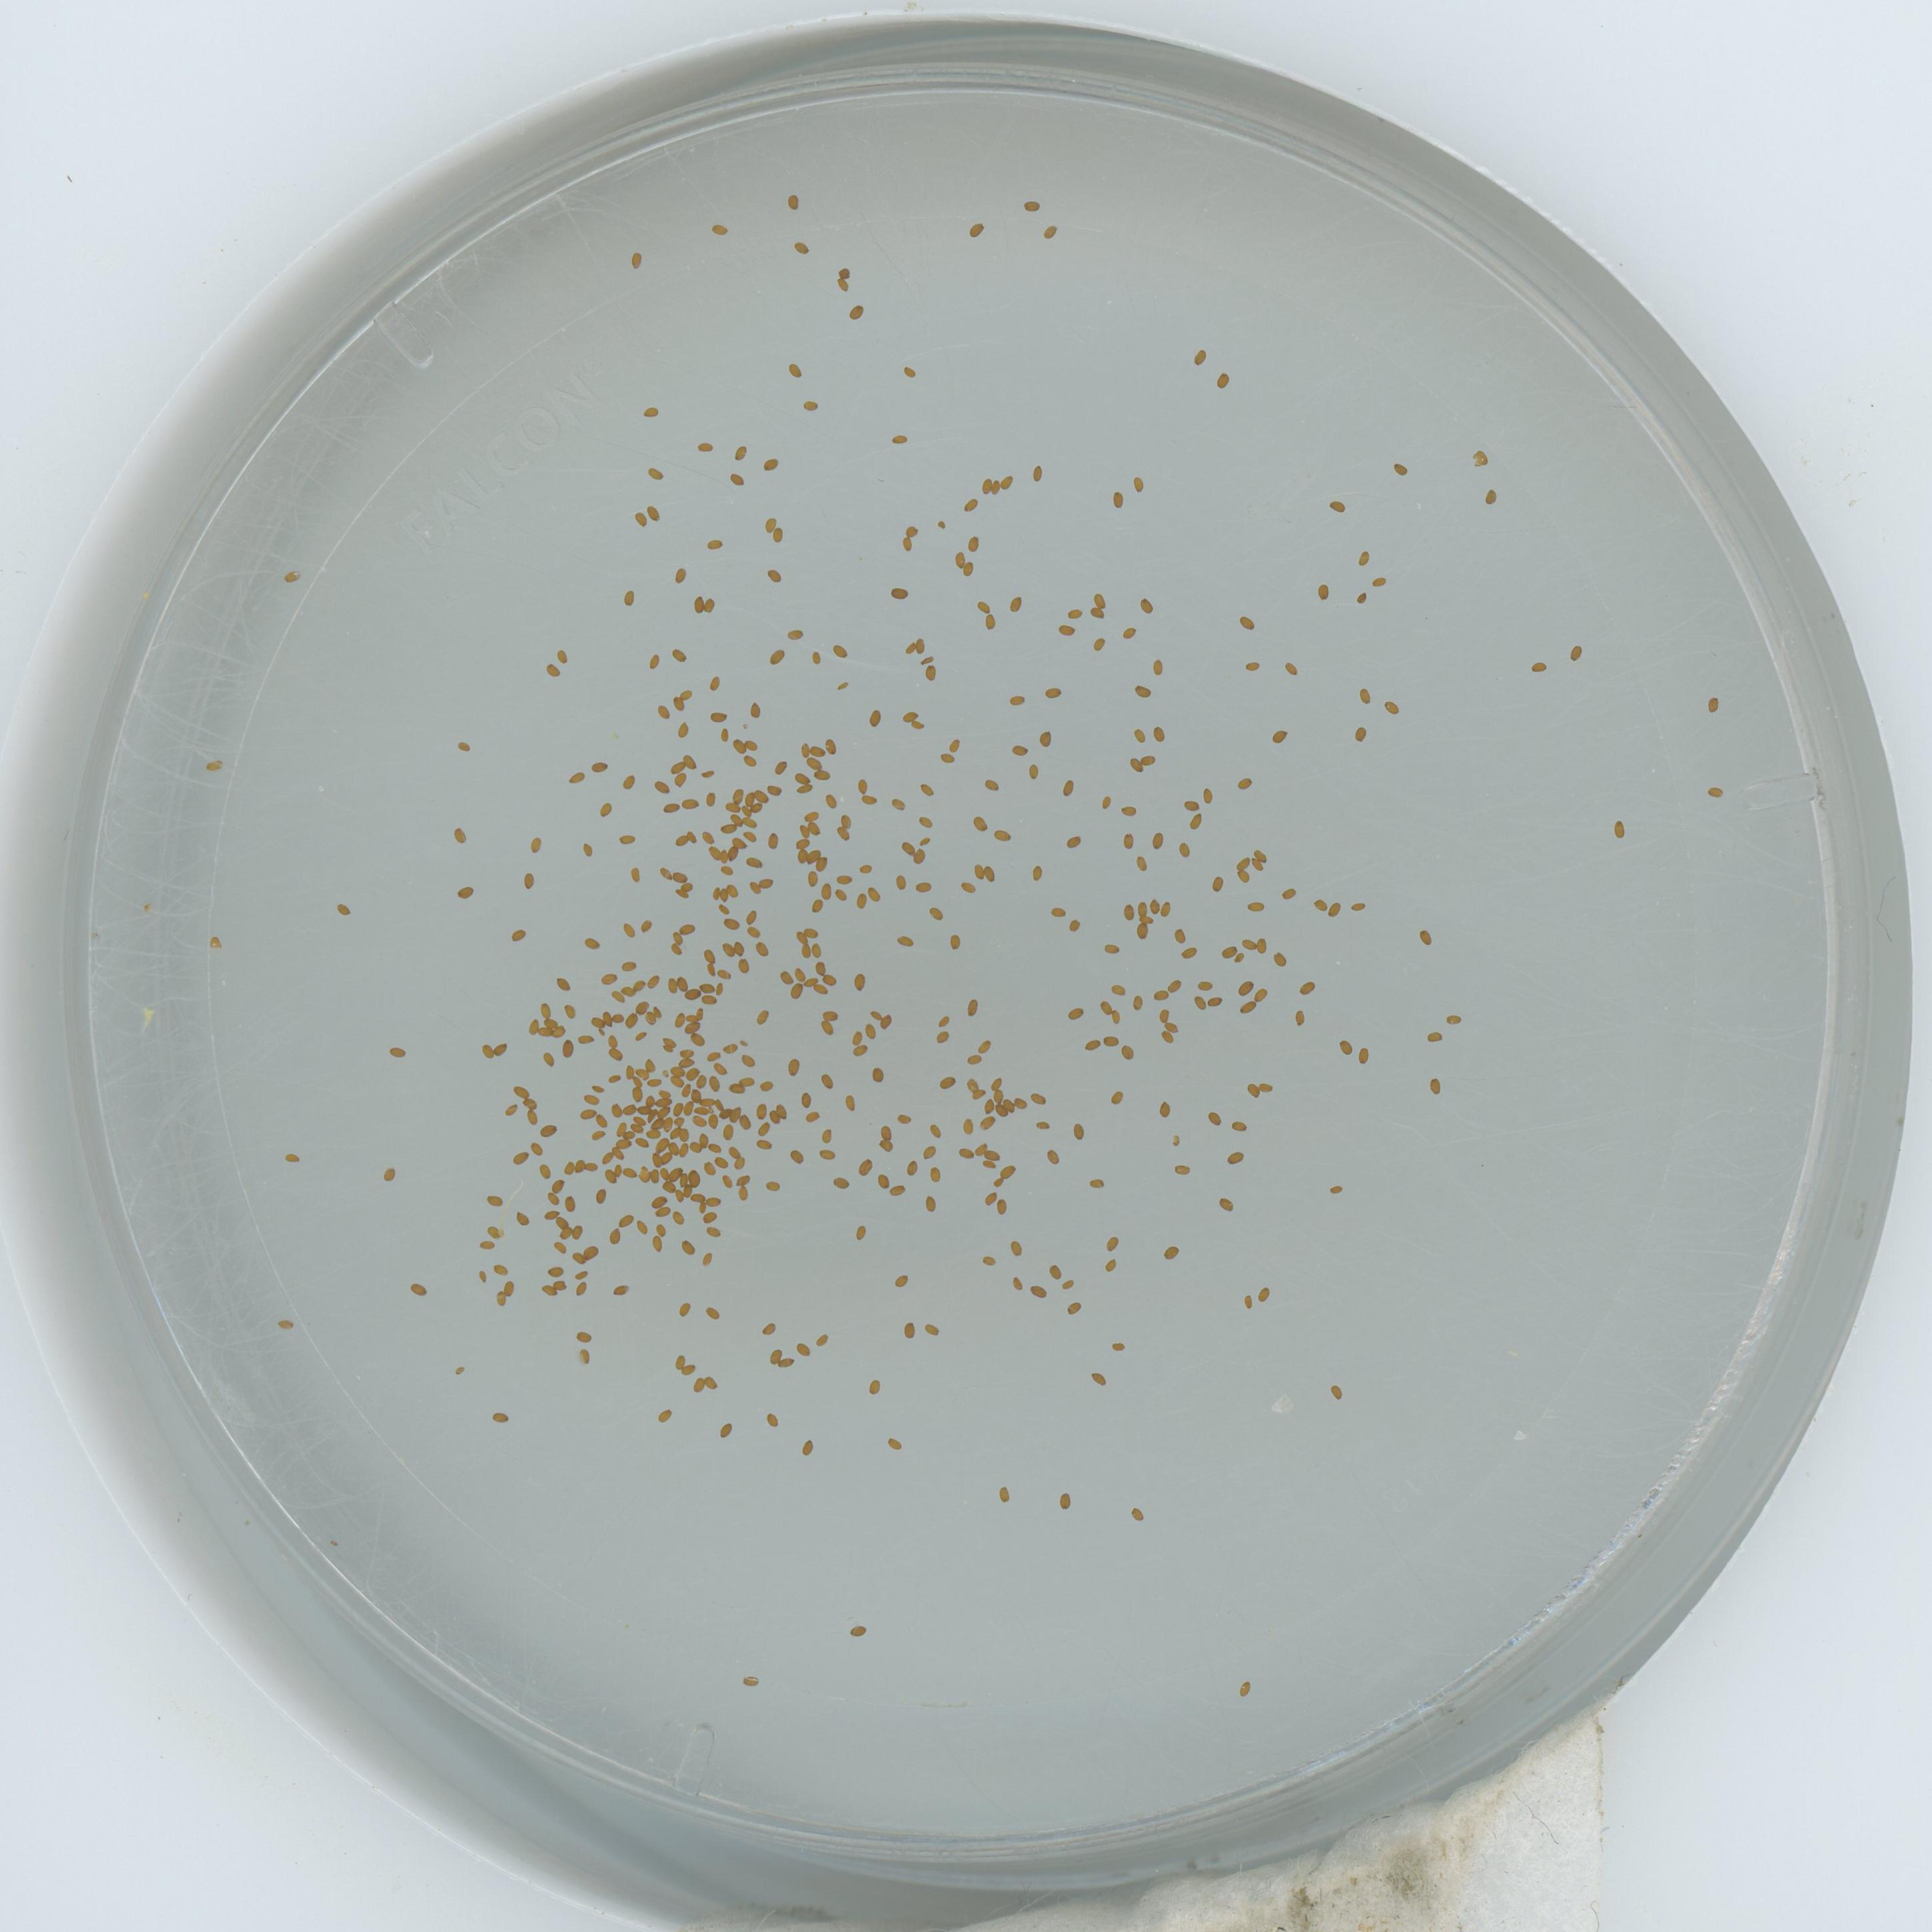seed: (731, 442, 754, 462), (784, 1054, 803, 1076), (1026, 1279, 1047, 1299), (1146, 832, 1166, 851), (1212, 370, 1231, 389), (1254, 1284, 1274, 1304), (1336, 1037, 1355, 1056), (1224, 1145, 1244, 1164), (1069, 1120, 1088, 1139), (1088, 1368, 1108, 1387), (888, 582, 909, 600), (1233, 978, 1254, 996), (847, 301, 867, 318), (596, 800, 616, 817), (867, 708, 885, 727), (745, 855, 764, 872), (817, 1070, 837, 1088), (678, 1237, 697, 1254), (1039, 221, 1058, 239), (1481, 487, 1500, 504), (1005, 594, 1024, 612), (1350, 725, 1369, 743), (1033, 729, 1053, 747), (1138, 596, 1155, 616), (966, 219, 985, 237), (1426, 1076, 1444, 1095), (832, 642, 849, 660), (619, 589, 637, 607), (451, 828, 469, 846), (522, 872, 540, 890), (729, 469, 747, 487), (683, 754, 701, 771), (672, 566, 690, 584), (536, 1161, 554, 1178), (939, 1072, 957, 1090), (901, 1320, 918, 1338), (904, 1157, 922, 1175), (922, 1194, 939, 1212), (511, 1146, 529, 1164), (617, 1210, 635, 1228), (1238, 614, 1256, 632), (1568, 644, 1585, 662), (1108, 490, 1125, 508), (1329, 497, 1346, 515), (1208, 876, 1226, 893), (971, 816, 989, 833), (1150, 725, 1168, 743), (1187, 814, 1205, 832), (1610, 821, 1628, 839), (1325, 899, 1343, 916), (1472, 448, 1490, 465), (1118, 803, 1136, 821), (1155, 901, 1173, 918), (1155, 1102, 1173, 1120), (1054, 1491, 1072, 1509), (1191, 993, 1208, 1010), (1042, 1145, 1060, 1162), (718, 823, 738, 839), (771, 759, 791, 775), (653, 780, 672, 796), (722, 915, 741, 931), (540, 1120, 559, 1136), (849, 1622, 869, 1638), (869, 1065, 888, 1081), (856, 1157, 876, 1173), (842, 1093, 862, 1109), (559, 1039, 575, 1058), (955, 1145, 975, 1161), (1178, 943, 1198, 959), (1382, 699, 1401, 715), (1054, 623, 1074, 639), (1269, 729, 1288, 745), (1131, 924, 1150, 939), (580, 1159, 602, 1173), (456, 885, 474, 901), (803, 396, 821, 412), (672, 775, 690, 791), (927, 906, 945, 922), (672, 867, 688, 885), (764, 833, 782, 849), (899, 932, 916, 948), (787, 361, 805, 377), (568, 770, 586, 786), (911, 849, 929, 865), (892, 430, 909, 446), (743, 828, 761, 844), (816, 770, 833, 786), (706, 674, 724, 690), (805, 872, 823, 888), (709, 708, 727, 724), (639, 918, 656, 934), (619, 832, 637, 847), (747, 702, 764, 718), (826, 738, 842, 755), (582, 934, 600, 950), (805, 924, 823, 939), (947, 932, 962, 950), (671, 648, 688, 663), (770, 648, 787, 663), (770, 527, 787, 543), (591, 759, 609, 775), (648, 465, 665, 481), (648, 504, 663, 522), (922, 665, 938, 683), (766, 566, 782, 584), (697, 439, 715, 455), (708, 536, 725, 552), (683, 796, 701, 812), (855, 778, 872, 794), (711, 219, 729, 235), (950, 552, 966, 570), (621, 775, 639, 791), (646, 655, 663, 671), (763, 455, 780, 471), (642, 403, 660, 419), (741, 754, 759, 770), (545, 663, 563, 679), (628, 867, 644, 885), (701, 947, 718, 962), (754, 941, 771, 957), (786, 193, 803, 209), (628, 251, 646, 267), (738, 957, 754, 975), (819, 1145, 837, 1161), (671, 1210, 688, 1226), (833, 1173, 851, 1189), (890, 1180, 908, 1196), (527, 1139, 545, 1155), (633, 1219, 651, 1235), (867, 1378, 885, 1394), (893, 1272, 911, 1288), (584, 1242, 602, 1258), (380, 1164, 396, 1182), (796, 1338, 812, 1355), (513, 1208, 531, 1224), (720, 1123, 738, 1139), (485, 1221, 502, 1237), (487, 1191, 504, 1207), (800, 1438, 817, 1454), (409, 1281, 426, 1297), (577, 1346, 594, 1362), (754, 1007, 771, 1023), (755, 1136, 773, 1152), (876, 1171, 893, 1187), (584, 1090, 602, 1106), (524, 1109, 540, 1127), (853, 1223, 870, 1238), (789, 1146, 807, 1162), (798, 1090, 816, 1106), (927, 1166, 945, 1182), (819, 1125, 835, 1143), (743, 1672, 761, 1688), (552, 1238, 570, 1254), (612, 1281, 630, 1297), (651, 1192, 669, 1208), (879, 1122, 895, 1139), (593, 1187, 610, 1203), (561, 1194, 579, 1210), (708, 1074, 724, 1092), (637, 1164, 653, 1182), (1010, 741, 1028, 757), (1417, 929, 1435, 945), (1247, 899, 1265, 915), (1391, 460, 1408, 476), (1008, 694, 1026, 709), (1047, 904, 1065, 920), (1315, 584, 1330, 602), (1132, 683, 1150, 699), (1146, 660, 1164, 676), (1182, 798, 1200, 814), (1042, 683, 1060, 699), (1065, 607, 1083, 623), (994, 828, 1012, 844), (1233, 855, 1251, 870), (1028, 464, 1044, 481), (1058, 778, 1074, 796), (982, 777, 1000, 793), (1279, 886, 1297, 902), (1706, 697, 1721, 715), (1021, 196, 1039, 212), (1118, 902, 1134, 920), (1129, 729, 1146, 745), (1281, 660, 1299, 676), (1023, 764, 1040, 780), (1065, 833, 1083, 849), (1355, 688, 1373, 704), (1707, 786, 1725, 801), (1118, 833, 1136, 849), (1131, 856, 1148, 872), (1102, 939, 1120, 955), (1191, 349, 1208, 364), (966, 534, 982, 552), (1134, 899, 1150, 916), (1102, 1033, 1120, 1049), (1118, 1044, 1136, 1060), (1238, 998, 1256, 1014), (998, 1161, 1016, 1177), (1230, 1116, 1247, 1132), (1244, 1083, 1261, 1099), (1426, 1026, 1444, 1042), (1109, 982, 1127, 998), (1007, 1238, 1024, 1254), (1290, 1008, 1306, 1026), (993, 1198, 1010, 1214), (1217, 1194, 1233, 1212), (1235, 1681, 1253, 1697), (982, 1187, 1000, 1203), (1205, 1111, 1223, 1127), (980, 1111, 996, 1129), (1355, 1047, 1373, 1063), (1161, 1244, 1178, 1260), (1030, 1092, 1047, 1108), (1088, 1173, 1104, 1191), (205, 755, 223, 771), (833, 678, 851, 694), (207, 936, 225, 952), (793, 771, 812, 786), (494, 1037, 508, 1056), (479, 1040, 494, 1060), (552, 1023, 571, 1037), (961, 1116, 975, 1136), (704, 596, 720, 612), (892, 798, 908, 814), (511, 925, 527, 941), (915, 879, 931, 895), (904, 522, 920, 538), (893, 876, 909, 892), (656, 867, 672, 883), (731, 738, 747, 754), (632, 511, 648, 527), (556, 649, 571, 665), (899, 842, 915, 858), (745, 738, 761, 754), (725, 885, 741, 901), (656, 706, 672, 722), (334, 901, 350, 916), (839, 814, 855, 830), (720, 863, 736, 879), (580, 842, 596, 858), (456, 740, 472, 755), (837, 264, 853, 280), (676, 724, 692, 740), (899, 536, 915, 552), (869, 886, 885, 902), (759, 876, 775, 892), (824, 794, 840, 810), (796, 849, 812, 865), (789, 626, 805, 642), (702, 832, 718, 847), (706, 847, 722, 863), (704, 791, 720, 807), (529, 837, 545, 853), (768, 782, 784, 798), (690, 596, 706, 612), (715, 727, 731, 743), (915, 833, 931, 849), (794, 239, 810, 255), (902, 640, 918, 656), (731, 787, 747, 803), (823, 1005, 839, 1021), (579, 1031, 594, 1047), (513, 1079, 529, 1095), (575, 1329, 591, 1345), (888, 1435, 904, 1451), (649, 1237, 665, 1253), (922, 1141, 938, 1157), (766, 1177, 782, 1192), (702, 1208, 718, 1224), (545, 1191, 561, 1207), (492, 1260, 508, 1276), (924, 1320, 939, 1336), (678, 1300, 694, 1316), (718, 1421, 734, 1437), (789, 984, 805, 1000), (492, 1410, 508, 1426), (605, 1031, 621, 1047), (736, 1185, 752, 1201), (688, 1168, 704, 1184), (699, 1249, 715, 1265), (763, 1320, 778, 1336), (573, 1281, 589, 1297), (570, 1223, 586, 1238), (504, 1100, 520, 1116), (479, 1237, 495, 1253), (704, 1373, 720, 1389), (598, 1148, 614, 1164), (538, 1000, 554, 1016), (607, 1228, 623, 1244), (851, 975, 867, 991), (706, 1224, 722, 1240), (607, 1069, 623, 1085), (389, 1042, 405, 1058), (927, 1122, 943, 1138), (766, 1348, 782, 1364), (690, 1376, 706, 1392), (754, 1104, 770, 1120), (672, 1352, 688, 1368), (655, 1203, 671, 1219), (474, 1267, 490, 1283), (704, 1304, 720, 1320), (764, 1412, 780, 1428), (934, 1028, 950, 1044), (492, 1290, 508, 1306), (702, 1161, 718, 1177), (628, 1085, 644, 1100), (278, 1316, 294, 1332), (1000, 472, 1016, 488), (1350, 897, 1366, 913), (1272, 950, 1288, 966), (1125, 759, 1141, 775), (1244, 658, 1260, 674), (1097, 794, 1113, 810), (1129, 476, 1145, 492), (1090, 637, 1106, 653), (1171, 925, 1187, 941), (1139, 752, 1155, 768), (1353, 589, 1369, 605), (1219, 941, 1235, 957), (1311, 897, 1327, 913), (982, 614, 998, 630), (1175, 842, 1191, 858), (1200, 789, 1215, 805), (1028, 865, 1044, 881), (1166, 977, 1182, 993), (996, 1486, 1012, 1502), (1207, 993, 1223, 1008), (1083, 1035, 1099, 1051), (1065, 1299, 1081, 1315), (1010, 1274, 1026, 1290), (1108, 1088, 1123, 1104), (1238, 1293, 1254, 1309), (1299, 980, 1315, 996), (973, 1139, 989, 1155), (1129, 993, 1145, 1008), (1327, 1178, 1343, 1194), (1109, 1338, 1125, 1353), (1254, 985, 1270, 1001), (1127, 1506, 1143, 1522), (987, 1074, 1003, 1090), (1033, 1116, 1049, 1132), (1104, 1233, 1120, 1249), (1258, 1081, 1274, 1097), (451, 1366, 467, 1382), (902, 708, 920, 722), (837, 872, 855, 886), (821, 883, 835, 901), (679, 920, 697, 934), (803, 809, 821, 823), (862, 794, 879, 809), (763, 515, 777, 533), (743, 909, 761, 924), (621, 924, 639, 938), (720, 938, 734, 955), (745, 924, 763, 938), (672, 835, 690, 849), (570, 1249, 587, 1263), (520, 1095, 538, 1109), (662, 1033, 679, 1047), (713, 1060, 731, 1074), (633, 998, 651, 1012), (867, 1007, 885, 1021), (552, 1277, 570, 1292), (805, 1108, 823, 1122), (685, 985, 702, 1000), (579, 1106, 596, 1120), (819, 1021, 837, 1035), (706, 1049, 724, 1063), (547, 1261, 564, 1276), (853, 1042, 870, 1056), (571, 1267, 589, 1281), (609, 989, 626, 1003), (688, 1031, 706, 1046), (610, 1008, 628, 1023), (630, 977, 648, 991), (1530, 660, 1548, 674), (1086, 607, 1104, 621), (1063, 918, 1081, 932), (1233, 872, 1251, 886), (966, 998, 980, 1016), (1046, 1263, 1063, 1277), (1196, 977, 1214, 991), (1445, 1012, 1463, 1026), (1327, 1384, 1345, 1398), (1173, 1161, 1191, 1175), (796, 784, 816, 796), (525, 1017, 538, 1037), (619, 961, 639, 973), (699, 1131, 711, 1150), (978, 478, 991, 497), (918, 782, 934, 796), (663, 801, 679, 816), (901, 363, 916, 377), (669, 759, 683, 775), (835, 278, 851, 292), (837, 888, 851, 904), (858, 863, 874, 878), (812, 745, 828, 759), (679, 686, 695, 701), (810, 899, 826, 913), (837, 828, 853, 842), (920, 653, 936, 667), (810, 651, 826, 665), (947, 740, 962, 754), (701, 766, 717, 780), (732, 939, 748, 954), (796, 743, 810, 759), (915, 637, 929, 653), (817, 858, 833, 872), (747, 881, 761, 897), (810, 823, 826, 837), (796, 824, 812, 839), (715, 902, 731, 916), (729, 812, 745, 826), (725, 846, 741, 860), (283, 568, 299, 582), (591, 1127, 607, 1141), (550, 1177, 566, 1191), (602, 971, 617, 985), (607, 1047, 623, 1062), (561, 1003, 577, 1017), (594, 1113, 610, 1127), (502, 1279, 518, 1293), (713, 1155, 729, 1169), (681, 1362, 697, 1376), (791, 966, 807, 980), (557, 977, 573, 991), (671, 1010, 685, 1026), (540, 1053, 556, 1067), (740, 1053, 755, 1067), (778, 970, 794, 984), (897, 1111, 913, 1125), (849, 1028, 863, 1044), (656, 1408, 672, 1422), (648, 973, 663, 987), (757, 1122, 773, 1136), (816, 1332, 832, 1346), (621, 1102, 637, 1116), (780, 1355, 796, 1369), (863, 1023, 879, 1037), (879, 1014, 895, 1028), (695, 1072, 709, 1088), (669, 1164, 685, 1178), (626, 1010, 640, 1026), (635, 1136, 651, 1150), (717, 966, 732, 980), (614, 1122, 630, 1136), (591, 1079, 607, 1093), (662, 1178, 678, 1192), (635, 1063, 651, 1077), (283, 1150, 299, 1164), (621, 1166, 637, 1180), (812, 959, 826, 975), (777, 1100, 791, 1116), (729, 1106, 743, 1122), (669, 1070, 685, 1085), (653, 1003, 667, 1019), (623, 982, 639, 996), (543, 1017, 559, 1031), (600, 1010, 614, 1026), (1371, 573, 1387, 587), (975, 598, 991, 612), (1253, 936, 1267, 952), (1355, 552, 1371, 566), (1237, 777, 1253, 791), (1090, 593, 1106, 607), (1120, 626, 1136, 640), (970, 865, 985, 879), (1253, 849, 1269, 863), (984, 867, 998, 883), (961, 881, 977, 895), (1249, 858, 1265, 872), (1152, 987, 1168, 1001), (980, 1157, 996, 1171), (1069, 1007, 1085, 1021), (985, 1146, 1001, 1161), (1155, 1007, 1171, 1021), (1100, 1256, 1116, 1270), (1097, 1000, 1113, 1014), (977, 1037, 993, 1051), (1058, 1276, 1074, 1290), (1106, 1010, 1122, 1024), (980, 1253, 996, 1267), (966, 1051, 982, 1065), (1159, 1030, 1175, 1044), (741, 791, 755, 807), (740, 803, 755, 817), (991, 476, 1001, 497), (803, 757, 821, 770), (667, 943, 685, 955), (794, 839, 812, 851), (878, 1139, 895, 1152), (614, 1138, 632, 1150), (536, 1024, 554, 1037), (543, 1207, 561, 1219), (918, 816, 932, 830), (855, 895, 869, 909), (672, 697, 686, 711), (709, 886, 724, 901), (798, 945, 812, 959), (793, 929, 807, 943), (757, 791, 771, 805), (934, 517, 948, 531), (812, 943, 826, 957), (720, 1173, 734, 1187), (936, 1014, 950, 1028), (653, 1223, 667, 1237), (740, 1115, 754, 1129), (736, 1173, 750, 1187), (648, 1074, 662, 1088), (644, 1060, 658, 1074), (690, 1192, 704, 1207), (603, 1169, 617, 1184), (591, 1014, 605, 1028), (727, 1143, 741, 1157), (623, 1063, 637, 1077), (609, 1102, 623, 1116), (644, 1010, 658, 1024), (704, 962, 718, 977), (692, 1007, 706, 1021), (718, 1106, 732, 1120), (1240, 936, 1254, 950), (966, 497, 980, 511), (980, 1099, 994, 1113), (1012, 1095, 1026, 1109), (994, 1102, 1008, 1116), (991, 1088, 1005, 1102), (1168, 1132, 1182, 1146), (632, 1074, 646, 1088), (909, 720, 925, 732), (724, 801, 740, 814), (939, 754, 955, 766), (741, 816, 757, 828), (669, 931, 685, 943), (685, 832, 701, 844), (759, 1079, 775, 1092), (814, 984, 830, 996), (699, 978, 715, 991), (540, 1284, 556, 1297), (706, 1115, 722, 1127), (660, 1150, 676, 1162), (805, 975, 821, 987), (632, 1115, 648, 1127), (686, 1139, 702, 1152), (633, 1030, 649, 1042), (734, 1154, 747, 1169), (681, 1083, 697, 1095), (678, 1141, 690, 1157), (651, 1150, 663, 1166), (554, 1215, 570, 1228), (1146, 899, 1159, 915), (678, 1171, 690, 1187), (669, 1125, 681, 1141), (628, 1122, 644, 1134), (722, 1042, 740, 1053), (683, 1023, 701, 1033), (1162, 1021, 1180, 1031), (683, 1099, 694, 1116), (672, 1099, 683, 1116), (656, 1090, 674, 1100), (809, 849, 821, 863), (823, 973, 837, 985), (708, 1141, 722, 1154), (676, 977, 690, 989), (561, 1161, 573, 1175), (648, 1127, 662, 1139), (656, 1138, 669, 1152), (665, 978, 678, 993), (573, 1157, 586, 1171), (715, 980, 727, 994), (612, 1162, 626, 1175), (713, 1097, 727, 1109), (770, 1108, 782, 1122), (669, 1063, 683, 1076), (559, 1224, 571, 1238), (639, 1102, 653, 1115), (612, 1148, 626, 1161), (656, 1104, 671, 1116), (690, 1090, 702, 1104), (662, 1116, 674, 1131), (971, 1088, 985, 1100), (966, 1076, 978, 1090), (1001, 1099, 1014, 1113), (669, 1141, 681, 1155), (732, 839, 748, 849), (702, 993, 718, 1003), (729, 1083, 745, 1093), (649, 1168, 660, 1184), (966, 561, 977, 577), (720, 886, 731, 902), (718, 847, 729, 863), (660, 1166, 671, 1182), (674, 888, 690, 899), (701, 1095, 717, 1106), (655, 1097, 672, 1106), (708, 1196, 720, 1208), (644, 1093, 656, 1106), (1233, 952, 1246, 964), (991, 1175, 1003, 1187), (681, 1185, 694, 1198), (651, 1118, 663, 1131), (750, 801, 764, 812), (740, 1077, 754, 1088), (694, 1115, 708, 1125), (685, 1067, 699, 1077), (1139, 915, 1154, 925), (646, 1109, 656, 1123), (679, 1049, 695, 1058), (694, 1106, 709, 1115), (678, 1058, 694, 1067), (678, 1129, 688, 1141), (674, 1115, 685, 1127), (623, 1131, 635, 1141), (679, 883, 694, 892), (674, 1191, 685, 1201), (685, 1014, 697, 1023), (662, 1044, 674, 1053), (596, 1028, 607, 1037), (660, 1069, 671, 1077), (740, 1039, 748, 1047), (699, 1201, 706, 1212), (706, 1106, 715, 1113)
